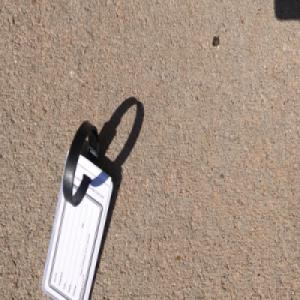LuggageTag: (40, 118, 114, 300)
